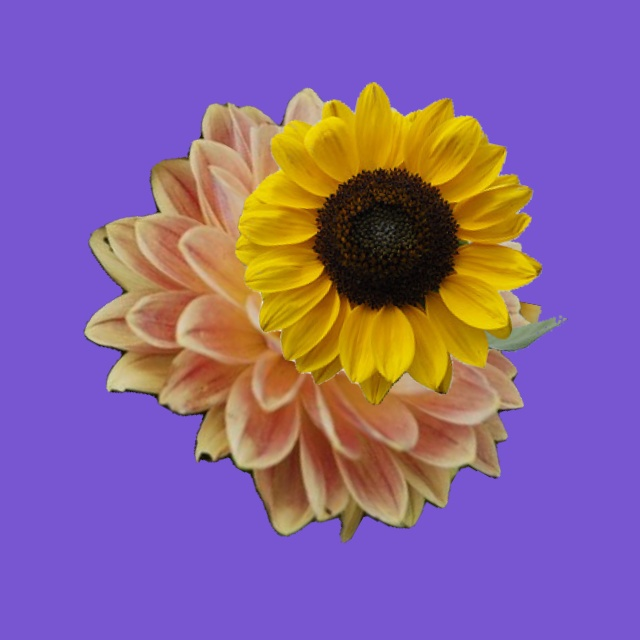dahlia: (84, 88, 530, 542)
sunflower: (235, 82, 566, 404), (463, 291, 541, 349)
